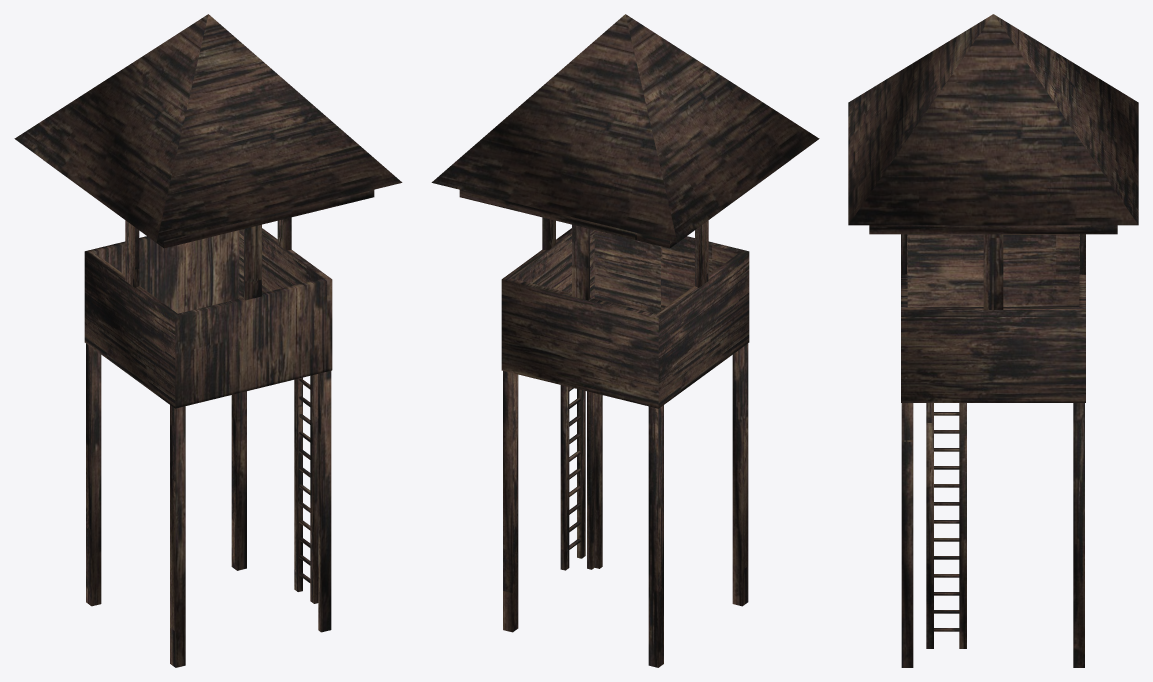
The model's file is WatchTower.fbx.
3 views of the same model, side by side, from view 1: azimuth 30°, elevation 25°; view 2: azimuth 150°, elevation 25°; view 3: azimuth 270°, elevation 25° (orthographic). The views are drawn at different scales.
Parts seen in each view (by area): view 1: Cube; view 2: Cube; view 3: Cube.
Boxes of the visible parts, bbox=[...] form: Cube: bbox=[14, 14, 402, 667]; Cube: bbox=[431, 14, 819, 667]; Cube: bbox=[848, 14, 1138, 667].
Size of the model in its own units: 878 by 2052 by 878.
